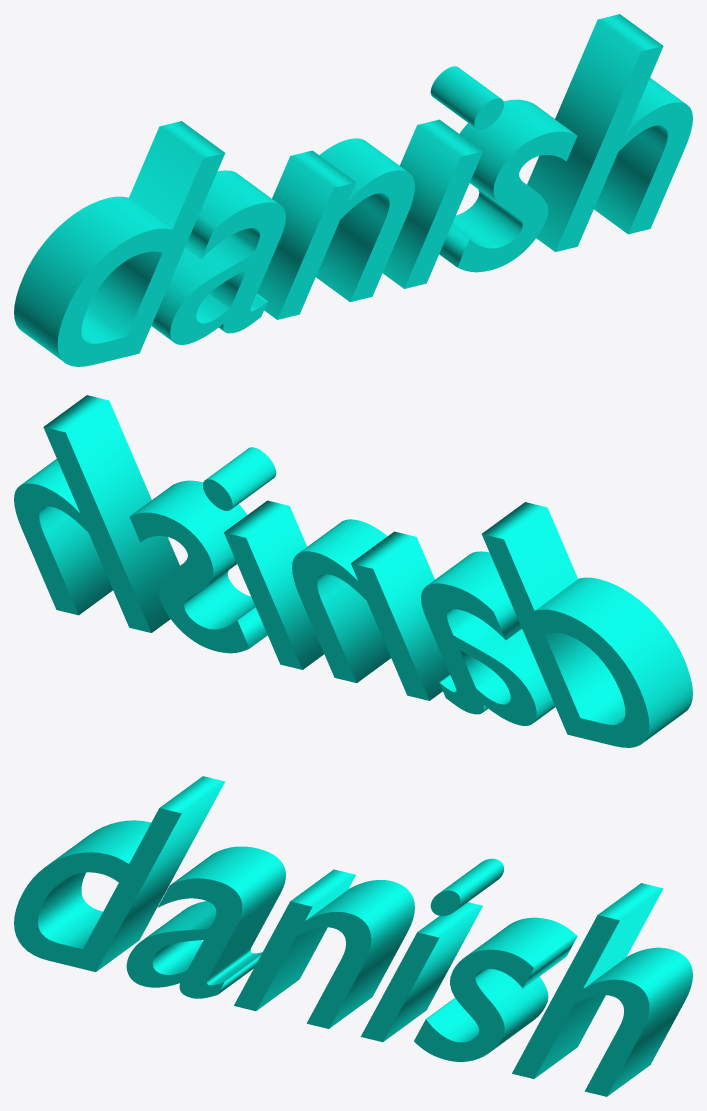
3 views of the same model, one above another, from view 1: azimuth 30°, elevation 25°; view 2: azimuth 150°, elevation 25°; view 3: azimuth 330°, elevation 25° (orthographic).
Visible parts, largest first — view 1: danish; view 2: danish; view 3: danish.
Part boxes in pixels (x1,y1,x2,y2): danish: [14, 14, 692, 366]; danish: [14, 395, 692, 747]; danish: [14, 776, 692, 1096].
Size of the model in its own units: 3.78 by 1.04 by 0.45.
